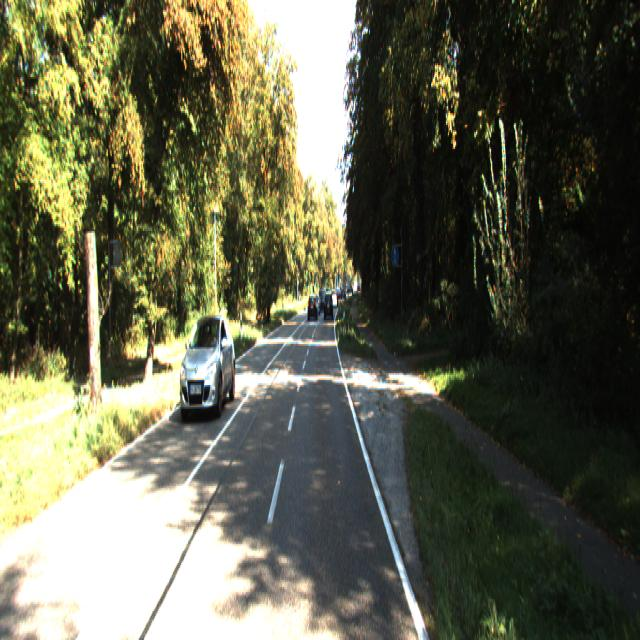Car: (176, 311, 236, 421)
DontCare: (306, 270, 364, 320)
